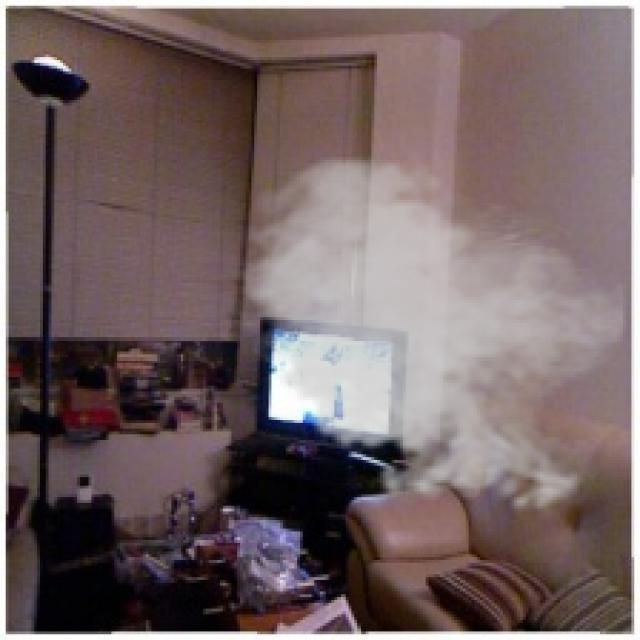Smoke: (226, 148, 628, 523)
